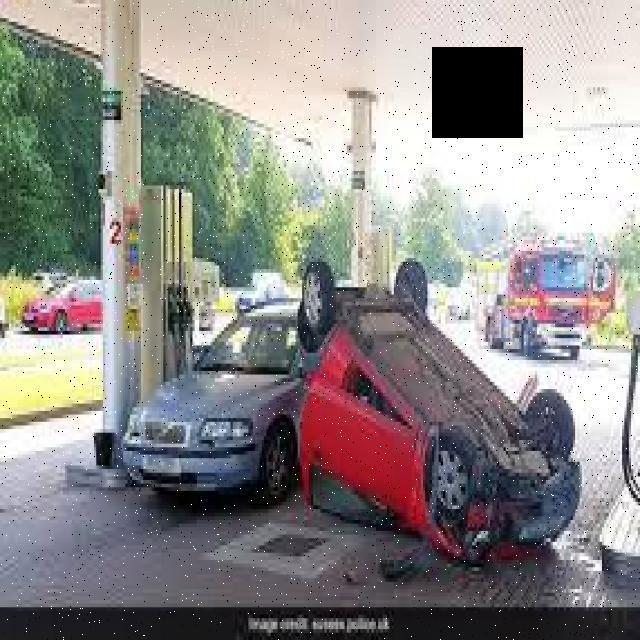multiple_accident: (142, 243, 588, 589)
